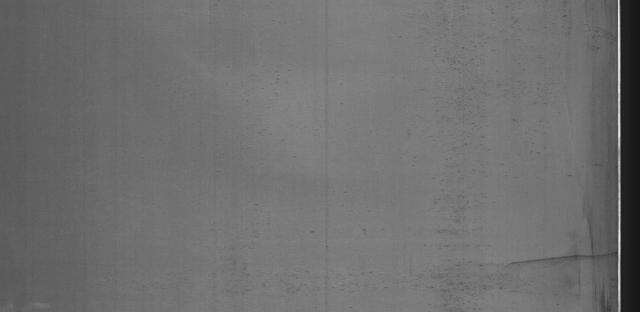crease: (510, 246, 616, 273)
